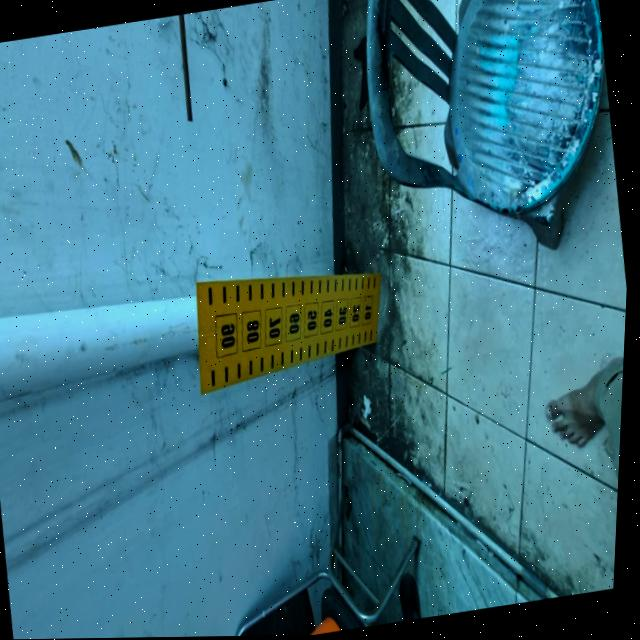water-meter: (173, 234, 404, 413)
